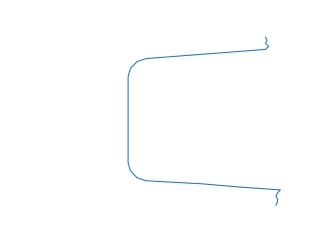aeolianDune: (121, 36, 284, 207)
